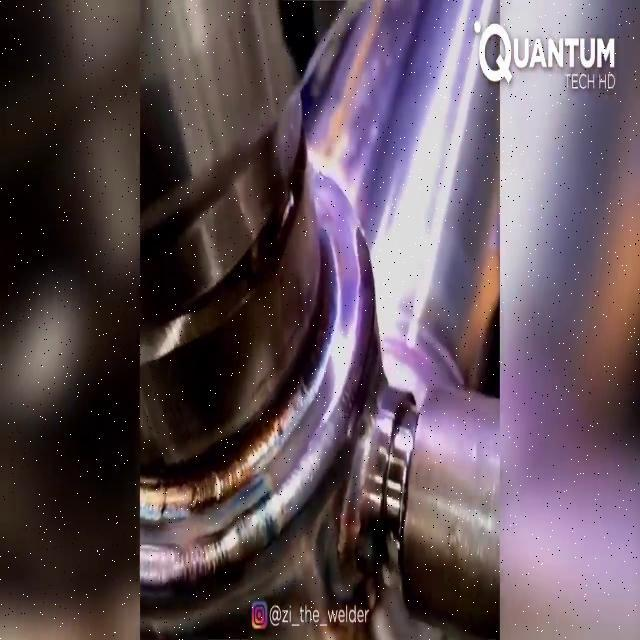Good Welding: (140, 164, 378, 589)
